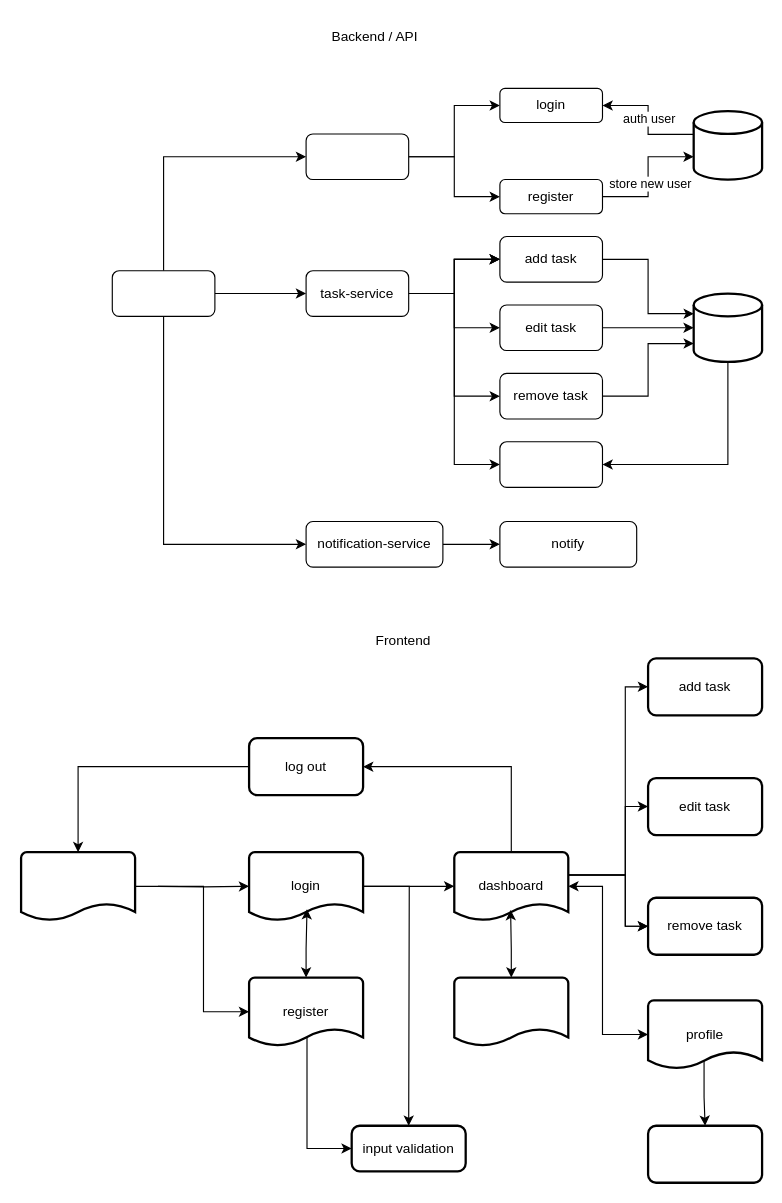
Image size: 782x1203. Some labels were removed from this diagram. Each missing label, with the centre of its shape:
"auth-service" belongs at point (357, 156).
"edit profile" belongs at point (704, 1153).
"fetch tasks" belongs at point (550, 464).
"mongo taskitDB" belongs at point (727, 144).
"notification" belongs at point (511, 1011).
"postgresql taskitDB" belongs at point (727, 327).
"taskit" belongs at point (163, 293).
"taskit landing" belongs at point (77, 885).
